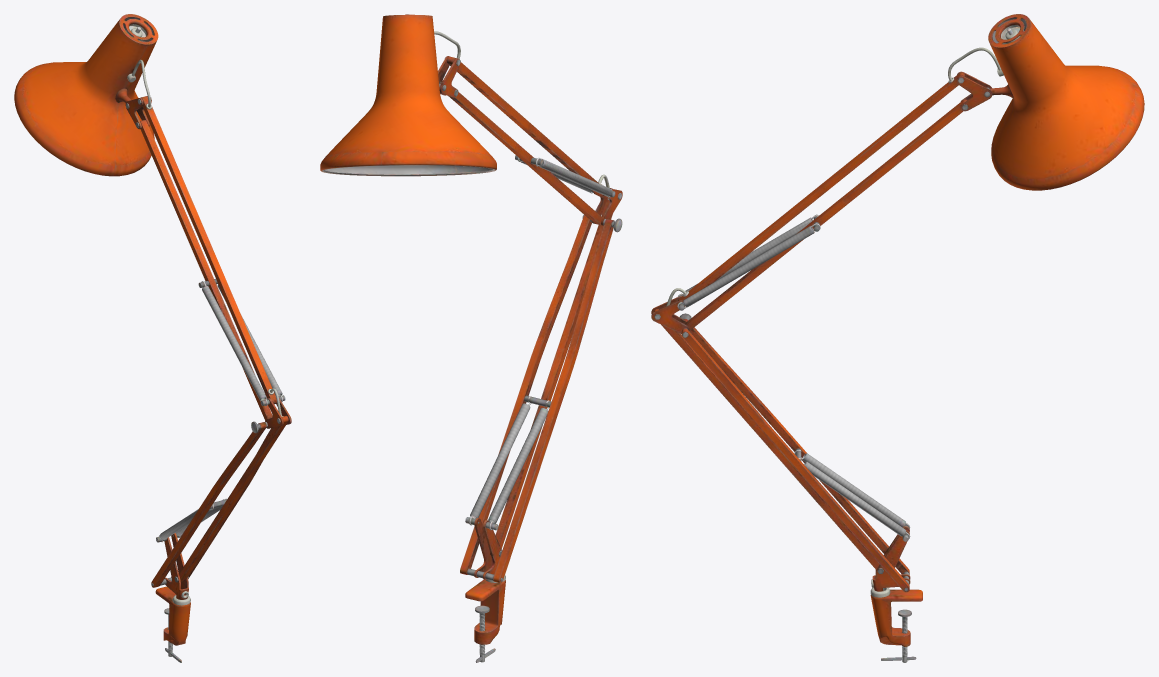
The model's file is lamp-desk-arm.fb8561c2.glb.
3 renders of one model, left to right at view 1: azimuth 30°, elevation 25°; view 2: azimuth 150°, elevation 25°; view 3: azimuth 270°, elevation 25°, orthographic. The views are drawn at different scales.
Visible parts, largest first — view 1: model; view 2: model; view 3: model.
Part boxes in pixels (box(x1,y1,x2,y2)): model: box(14, 14, 291, 662); model: box(320, 14, 622, 662); model: box(651, 14, 1144, 662).
Bounding box in the file's own units: 0.2017 × 0.8926 × 0.6139.
Materials: 2 (2 with a texture image).
